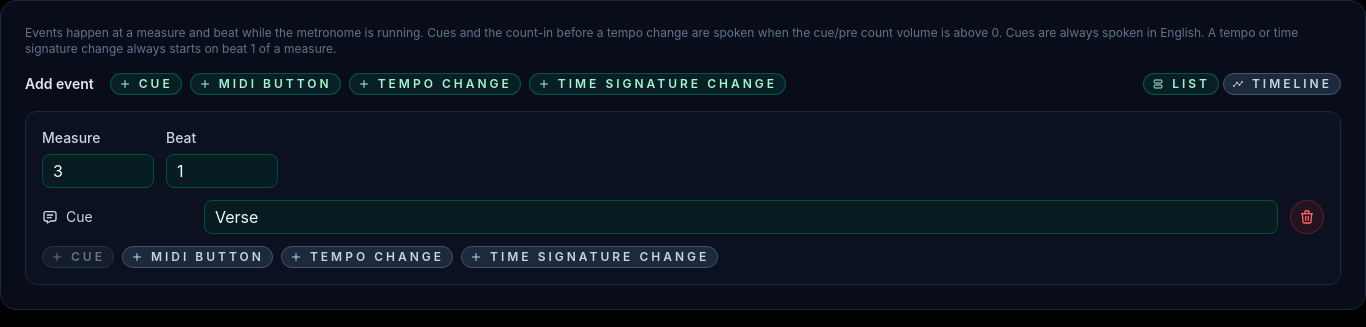
EventsTab › deletes an event and the position when it is empty
Click the button named "Delete cue" at (1307, 217), box left=1290, top=200, right=1324, bottom=234
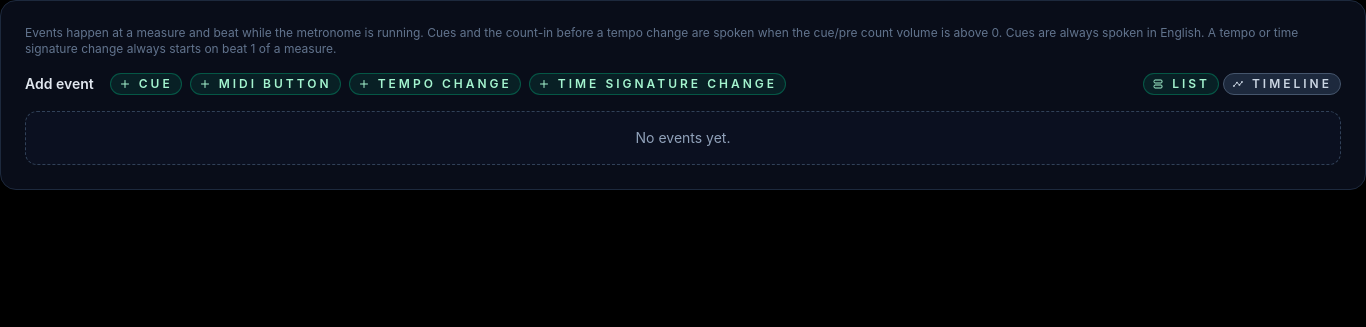
Now the text "No events yet." is shown, box left=25, top=111, right=1341, bottom=165
